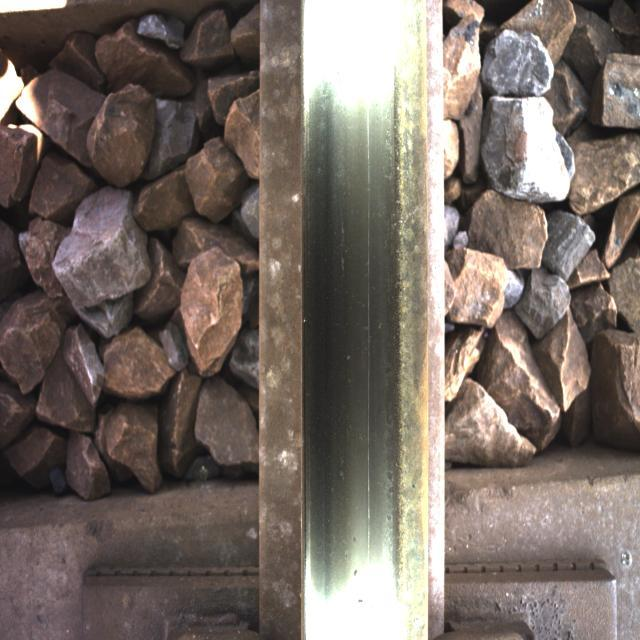normal: (332, 21, 412, 630)
